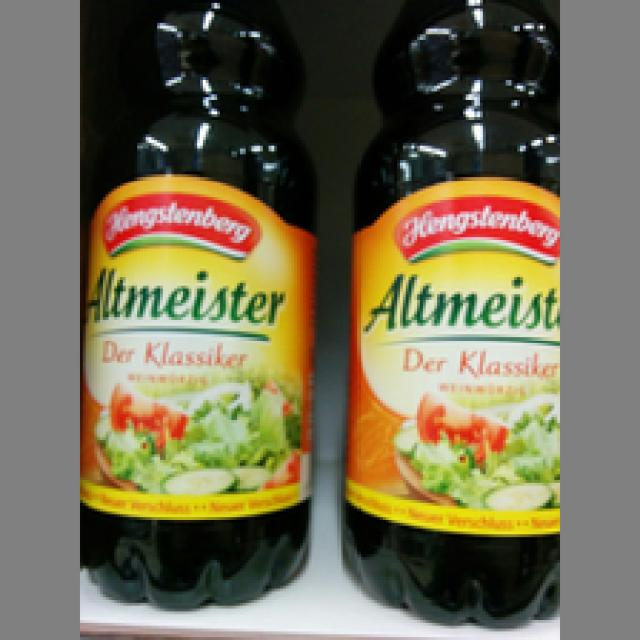groceries: (80, 3, 320, 608), (346, 0, 563, 626)
